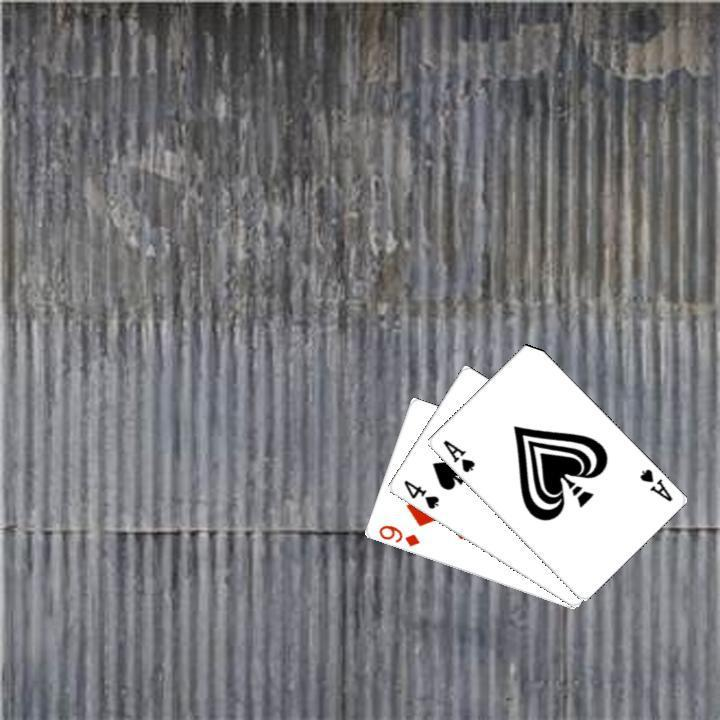4: (399, 476, 441, 511)
9: (374, 521, 421, 549)
A: (634, 464, 674, 504), (438, 435, 477, 475)
